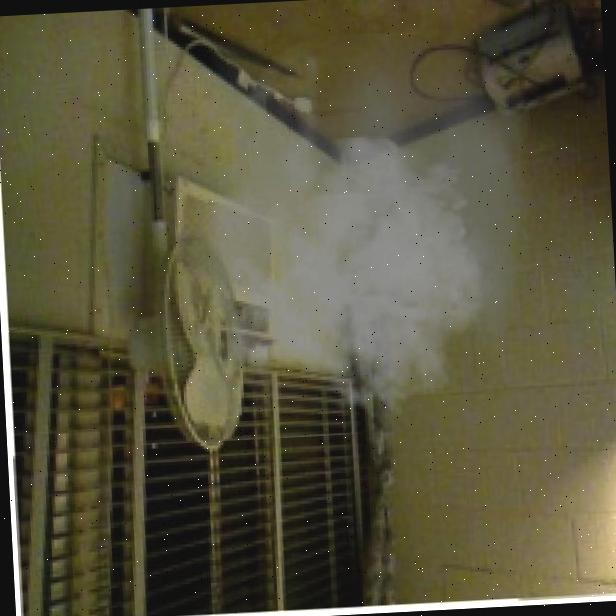smoke: (179, 25, 545, 429)
